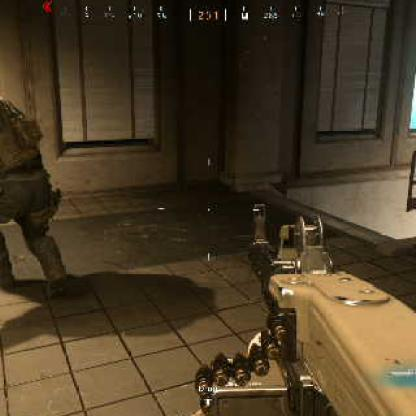enemy: (1, 96, 69, 293)
